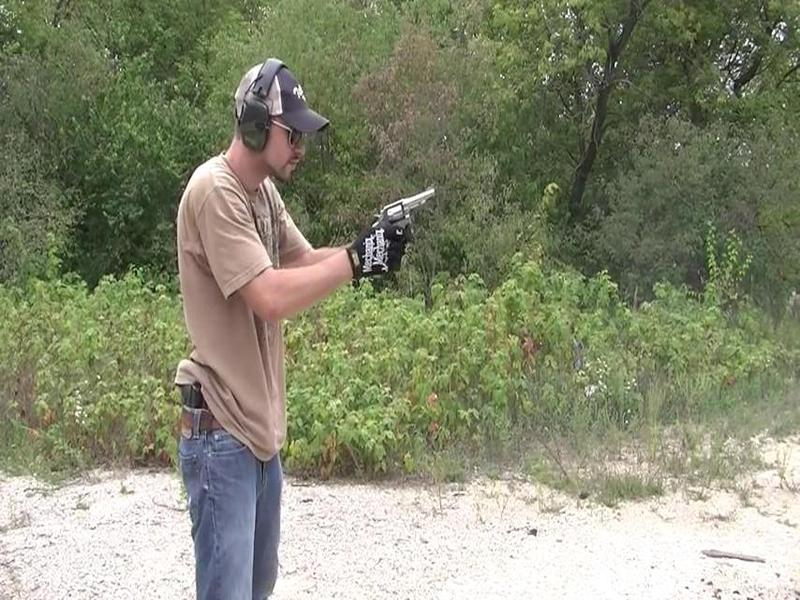Revolver: (367, 183, 438, 254)
